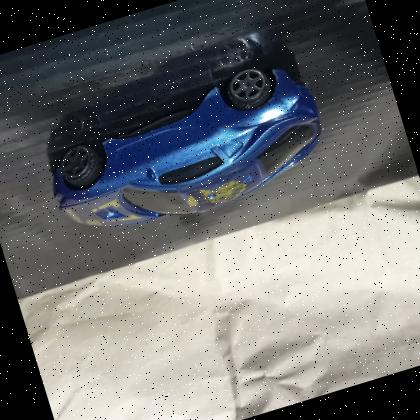Car: (51, 65, 322, 227)
